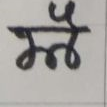ai_matra: (53, 0, 83, 27)
